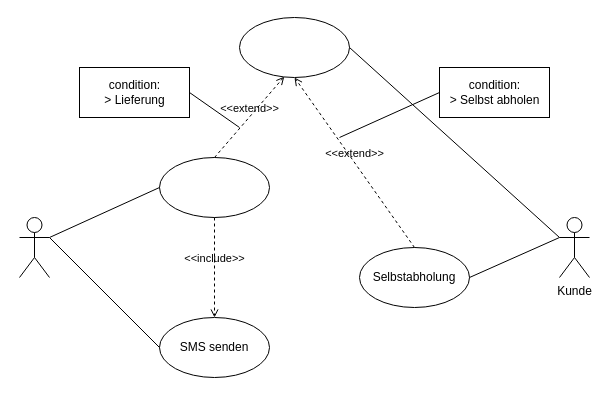
The diagram is 609 pixels wide and 395 high, and some of its shapes have lost their labels. The shapes that lost their labels are listed below. From the top down, each one's centre as x and y in pixels, then its label:
At [294,47]: "Bestellung aufnehmen".
At [214,187]: "Auslieferung".
At [34,247]: "Fahrer".
